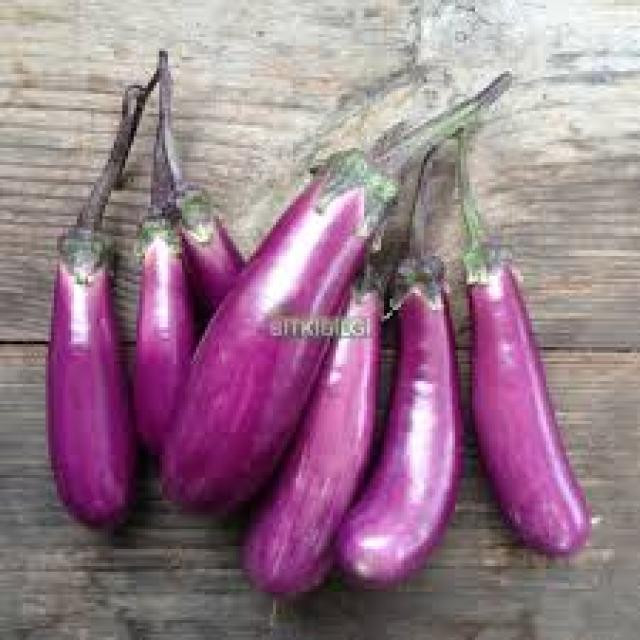eggplant: (156, 154, 384, 509), (242, 267, 384, 592), (336, 264, 460, 592), (464, 247, 586, 552), (45, 224, 134, 520)
